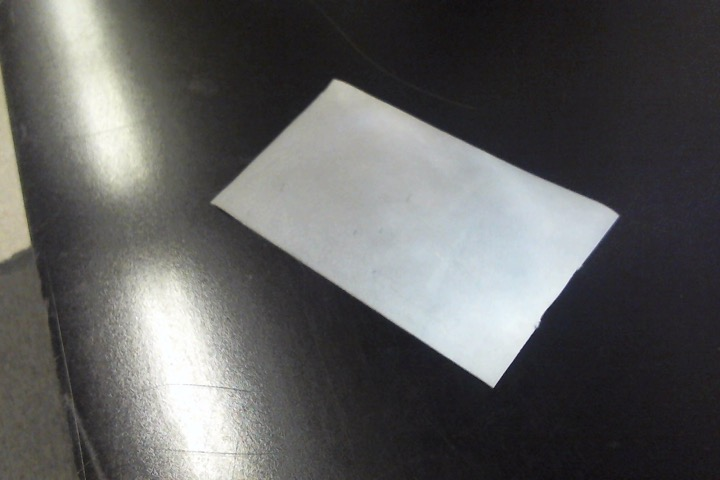Tape: (209, 78, 621, 388)
